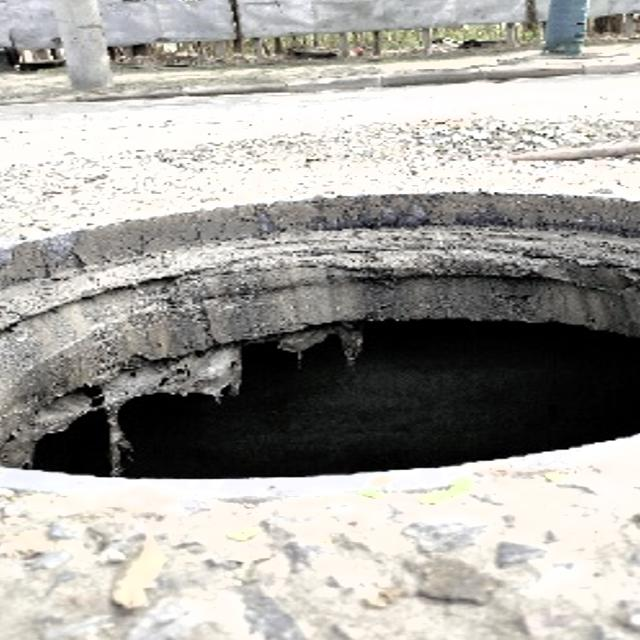lose: (0, 192, 640, 495)
